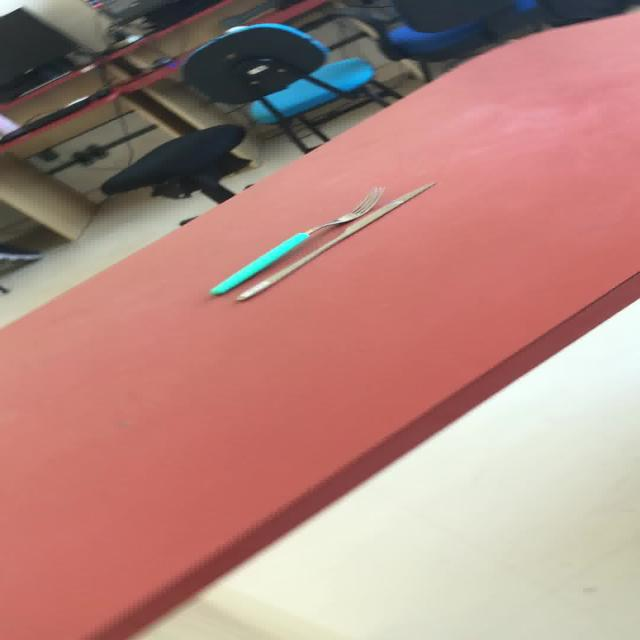fork: (207, 184, 384, 296)
knife fork: (232, 180, 436, 302)
